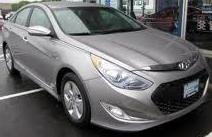front_view: (88, 51, 212, 133)
headlight: (87, 52, 155, 95)
side_glass: (9, 6, 59, 42)
